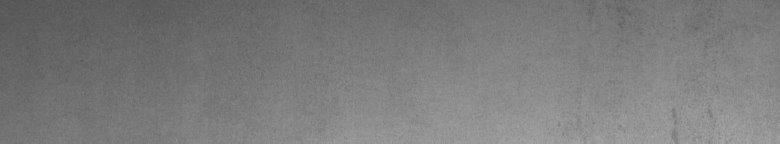ib: (617, 8, 713, 136)
